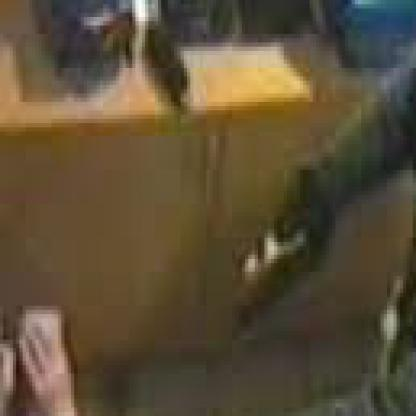gun: (226, 174, 348, 318)
